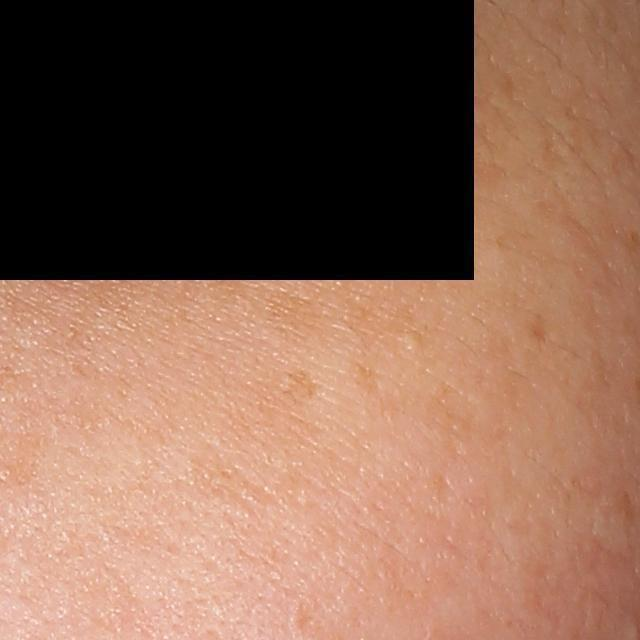comedo: (400, 328, 426, 354)
melasma: (204, 207, 351, 299), (253, 283, 331, 349), (279, 371, 317, 402)
